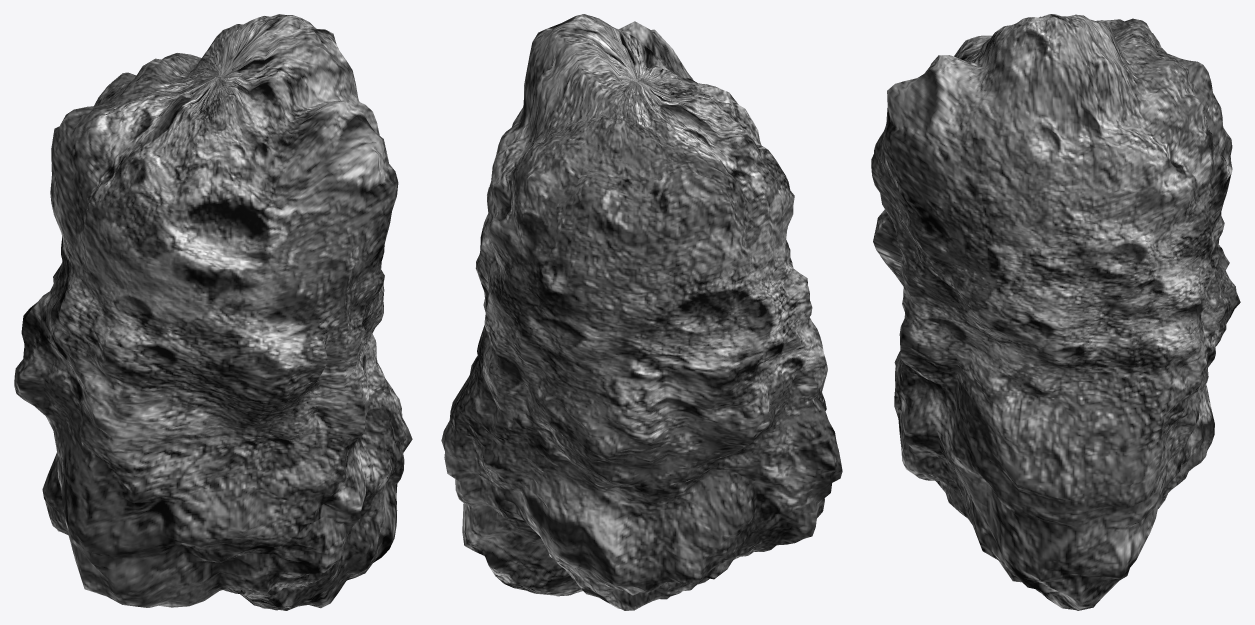
The model's file is asteroid1.FBX.
The picture shows the model from 3 angles, left to right: view 1: azimuth 30°, elevation 25°; view 2: azimuth 150°, elevation 25°; view 3: azimuth 270°, elevation 25°; orthographic projection. The views are drawn at different scales.
Visible parts, largest first — view 1: Capsule001; view 2: Capsule001; view 3: Capsule001.
Boxes of the visible parts, x1=… form: Capsule001: x1=14, y1=14, x2=412, y2=610; Capsule001: x1=441, y1=14, x2=842, y2=610; Capsule001: x1=871, y1=14, x2=1240, y2=610.
Bounding box in the file's own units: 72.25 × 114 × 67.06.
1 material, 1 textured.
